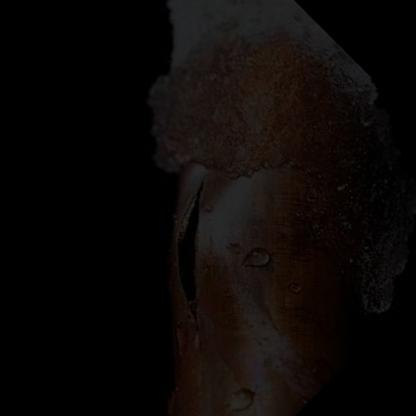burst: (146, 161, 242, 337)
